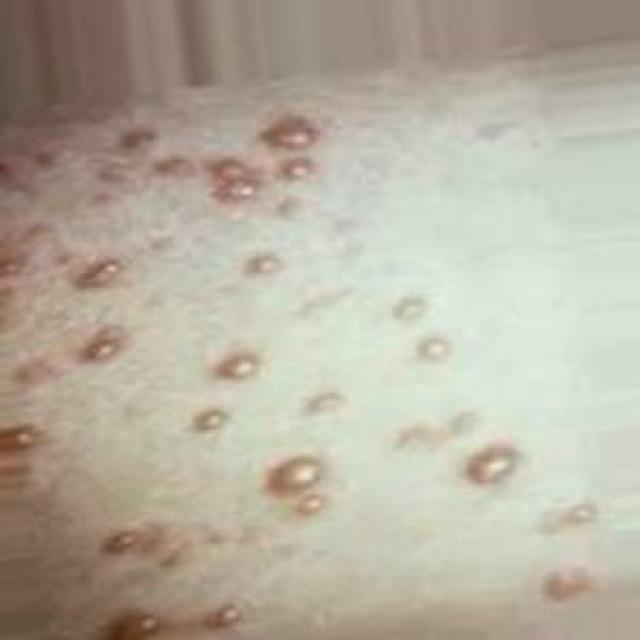Shingles: (268, 454, 325, 495), (466, 444, 520, 486), (542, 498, 598, 532), (263, 115, 319, 148), (81, 326, 129, 363), (104, 611, 159, 640), (544, 568, 592, 601), (77, 256, 124, 289), (214, 349, 260, 380), (1, 422, 43, 454), (304, 389, 346, 416), (216, 176, 258, 203), (192, 407, 231, 433), (104, 529, 143, 554), (392, 295, 428, 322), (281, 154, 317, 180), (417, 335, 451, 362), (209, 602, 243, 629), (246, 252, 283, 276), (120, 127, 158, 150), (294, 491, 327, 517)
